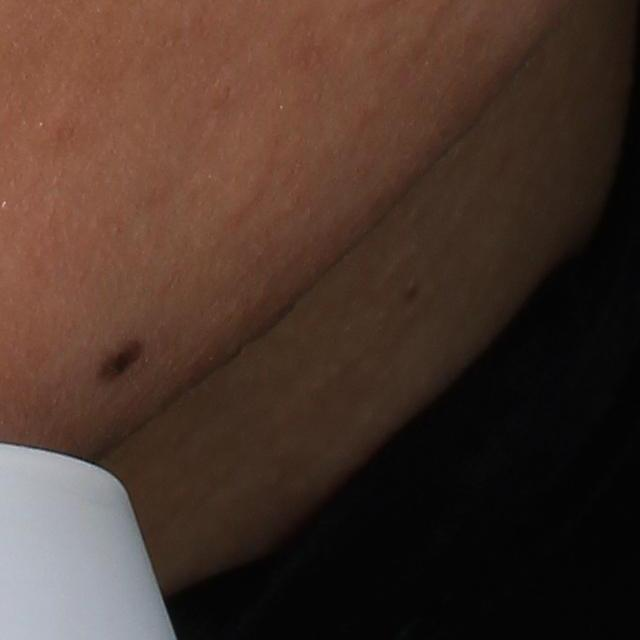nevus: (88, 335, 150, 385)
